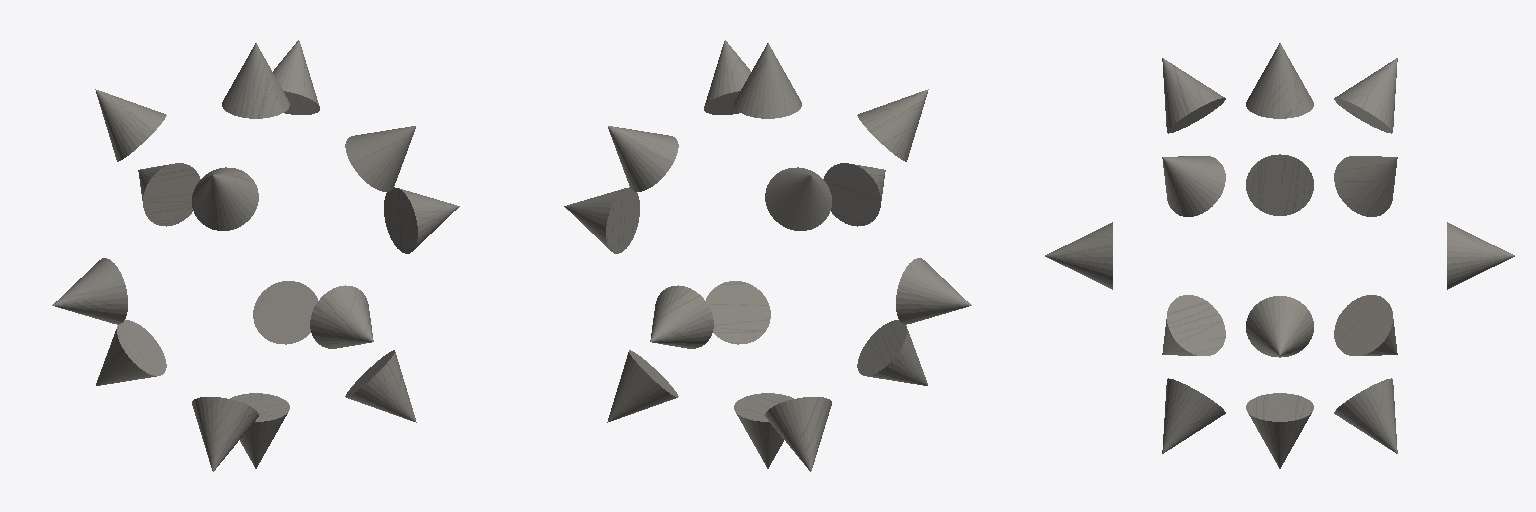
3 renders of one model, left to right at view 1: azimuth 30°, elevation 25°; view 2: azimuth 150°, elevation 25°; view 3: azimuth 270°, elevation 25°, orthographic.
Parts seen in each view (by area): view 1: 円錐.007, 円錐.004, 円錐.012, 円錐.005, 円錐.006, 円錐.002, 円錐.013, 円錐.003, 円錐, 円錐.009, 円錐.008, 円錐.011 (+2 smaller); view 2: 円錐.011, 円錐.005, 円錐.008, 円錐.004, 円錐.010, 円錐.002, 円錐.009, 円錐.003, 円錐, 円錐.013, 円錐.007, 円錐.012 (+2 smaller); view 3: 円錐.002, 円錐.003, 円錐.006, 円錐.009, 円錐.010, 円錐.013, 円錐, 円錐.001, 円錐.007, 円錐.008, 円錐.011, 円錐.012 (+2 smaller).
Part boxes in pixels (left/top/right/bottom): 円錐.007: left=192, top=167, right=258, bottom=230; 円錐.004: left=310, top=285, right=373, bottom=348; 円錐.012: left=253, top=281, right=317, bottom=344; 円錐.005: left=138, top=163, right=200, bottom=226; 円錐.006: left=345, top=126, right=415, bottom=191; 円錐.002: left=52, top=258, right=127, bottom=324; 円錐.013: left=96, top=320, right=166, bottom=385; 円錐.003: left=384, top=187, right=459, bottom=253; 円錐: left=222, top=43, right=289, bottom=118; 円錐.009: left=192, top=397, right=258, bottom=471; 円錐.008: left=345, top=350, right=416, bottom=422; 円錐.011: left=95, top=89, right=166, bottom=161; 円錐.011: left=765, top=167, right=831, bottom=230; 円錐.005: left=650, top=285, right=713, bottom=348; 円錐.008: left=706, top=281, right=770, bottom=344; 円錐.004: left=823, top=163, right=885, bottom=226; 円錐.010: left=608, top=126, right=678, bottom=191; 円錐.002: left=896, top=258, right=971, bottom=324; 円錐.009: left=857, top=320, right=927, bottom=385; 円錐.003: left=564, top=187, right=639, bottom=253; 円錐: left=734, top=43, right=801, bottom=118; 円錐.013: left=765, top=397, right=831, bottom=471; 円錐.007: left=857, top=89, right=928, bottom=161; 円錐.012: left=607, top=350, right=678, bottom=422; 円錐.002: left=1246, top=154, right=1313, bottom=215; 円錐.003: left=1246, top=296, right=1313, bottom=357; 円錐.006: left=1162, top=156, right=1225, bottom=216; 円錐.009: left=1162, top=295, right=1225, bottom=355; 円錐.010: left=1334, top=156, right=1397, bottom=216; 円錐.013: left=1334, top=295, right=1397, bottom=355; 円錐: left=1246, top=43, right=1313, bottom=118; 円錐.001: left=1246, top=393, right=1313, bottom=468; 円錐.007: left=1162, top=58, right=1225, bottom=133; 円錐.008: left=1162, top=378, right=1225, bottom=453; 円錐.011: left=1334, top=58, right=1397, bottom=133; 円錐.012: left=1334, top=378, right=1397, bottom=453.
Bounding box in the file's own units: 2.76 × 2.76 × 2.76.
Materials: 1 (1 with a texture image).